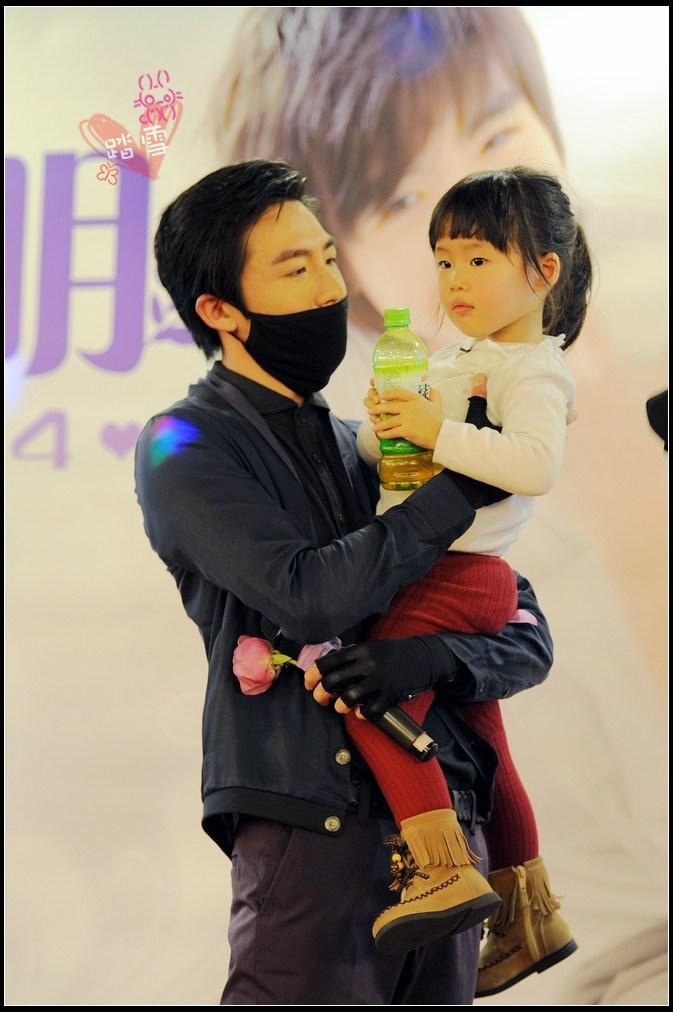NONE: (439, 246, 519, 339)
WRONG: (224, 227, 378, 381)
